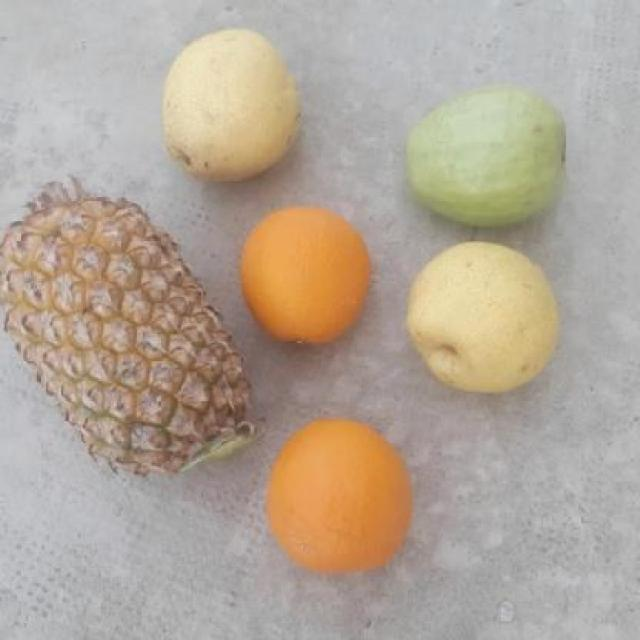guava: (407, 84, 571, 228)
oren: (260, 411, 420, 574), (235, 202, 379, 344)
pear: (155, 25, 310, 184), (404, 241, 568, 390)
pineapple: (0, 188, 262, 474)
